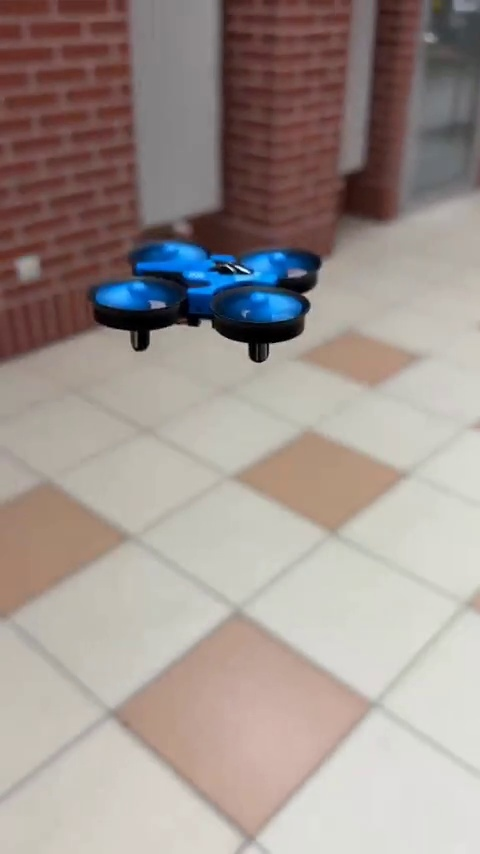drone: (83, 235, 328, 364)
